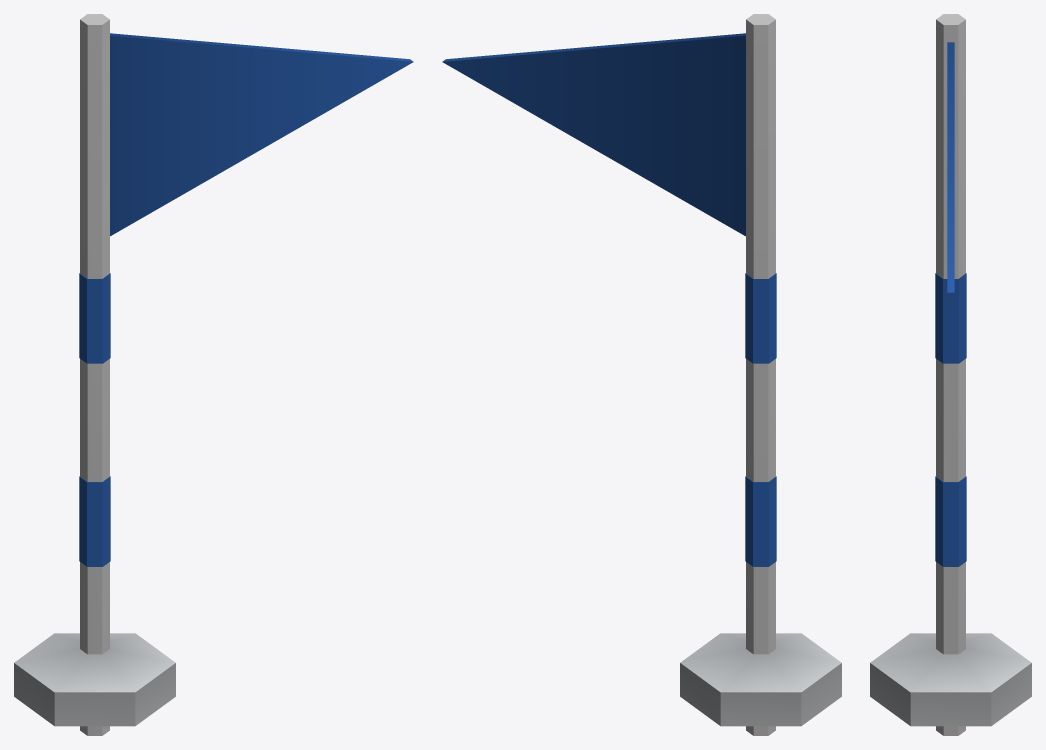
File: prop.glacier_flag_b.glb
3 views of the same model, side by side, from view 1: azimuth 30°, elevation 25°; view 2: azimuth 150°, elevation 25°; view 3: azimuth 270°, elevation 25° (orthographic).
Parts seen in each view (by area): view 1: glacier_flag_b; view 2: glacier_flag_b; view 3: glacier_flag_b.
Boxes of the visible parts, <box> form: glacier_flag_b: <box>14,14,413,735</box>; glacier_flag_b: <box>442,14,841,735</box>; glacier_flag_b: <box>870,14,1031,735</box>.
Bounding box in the file's own units: 1.17 × 2.1 × 0.433.
